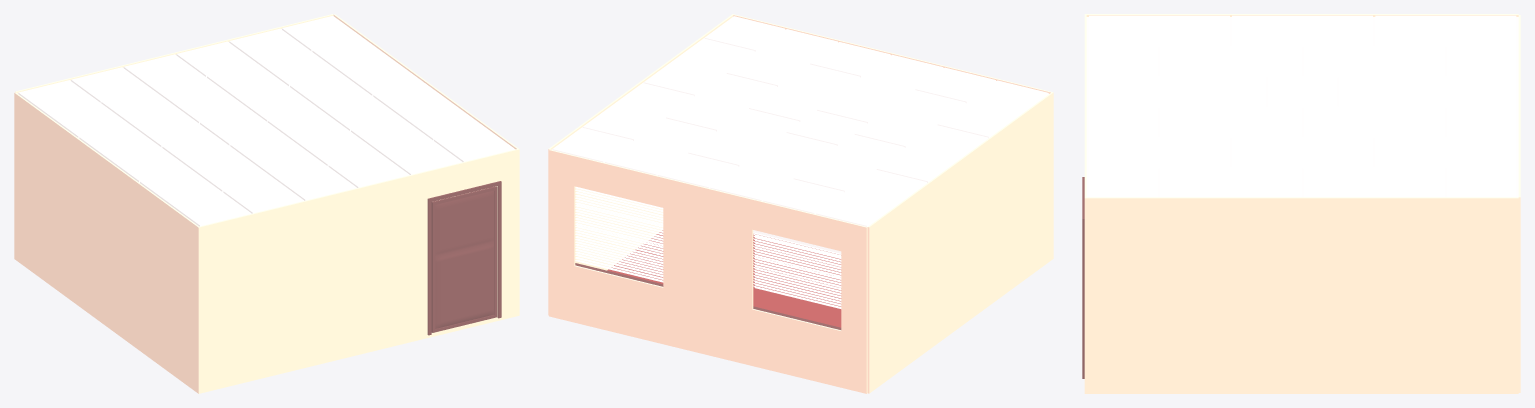
Rendered from Office_Space.fbx.
The picture shows the model from 3 angles, left to right: view 1: azimuth 30°, elevation 25°; view 2: azimuth 150°, elevation 25°; view 3: azimuth 270°, elevation 25°; orthographic projection. The views are drawn at different scales.
Visible parts, largest first — view 1: pCube112, fwd_wall1, rgt_wall, pCube79, pCube78, bck_wall2, lft_wall; view 2: pCube112, bck_wall2, rgt_wall, floor, lft_wall, fwd_wall1; view 3: lft_wall, pCube112, pCube113, fwd_wall1, bck_wall2, rgt_wall, pCube78.
Part boxes in pixels (x1,y1,x2,y2): pCube112: [18, 16, 514, 226]; fwd_wall1: [197, 148, 519, 393]; rgt_wall: [14, 92, 198, 392]; pCube79: [431, 186, 497, 332]; pCube78: [427, 181, 501, 335]; bck_wall2: [15, 14, 333, 93]; lft_wall: [333, 14, 518, 149]; pCube112: [552, 16, 1048, 226]; bck_wall2: [549, 149, 867, 393]; rgt_wall: [867, 92, 1052, 393]; floor: [607, 230, 841, 327]; lft_wall: [548, 15, 733, 315]; fwd_wall1: [732, 14, 1053, 258]; lft_wall: [1086, 197, 1518, 393]; pCube112: [1089, 15, 1516, 197]; pCube113: [1086, 17, 1518, 197]; fwd_wall1: [1084, 14, 1086, 393]; bck_wall2: [1518, 15, 1520, 392]; rgt_wall: [1086, 14, 1518, 16]; pCube78: [1082, 177, 1084, 378].
Bounding box in the file's own units: 50.5 × 25 × 50.75.
